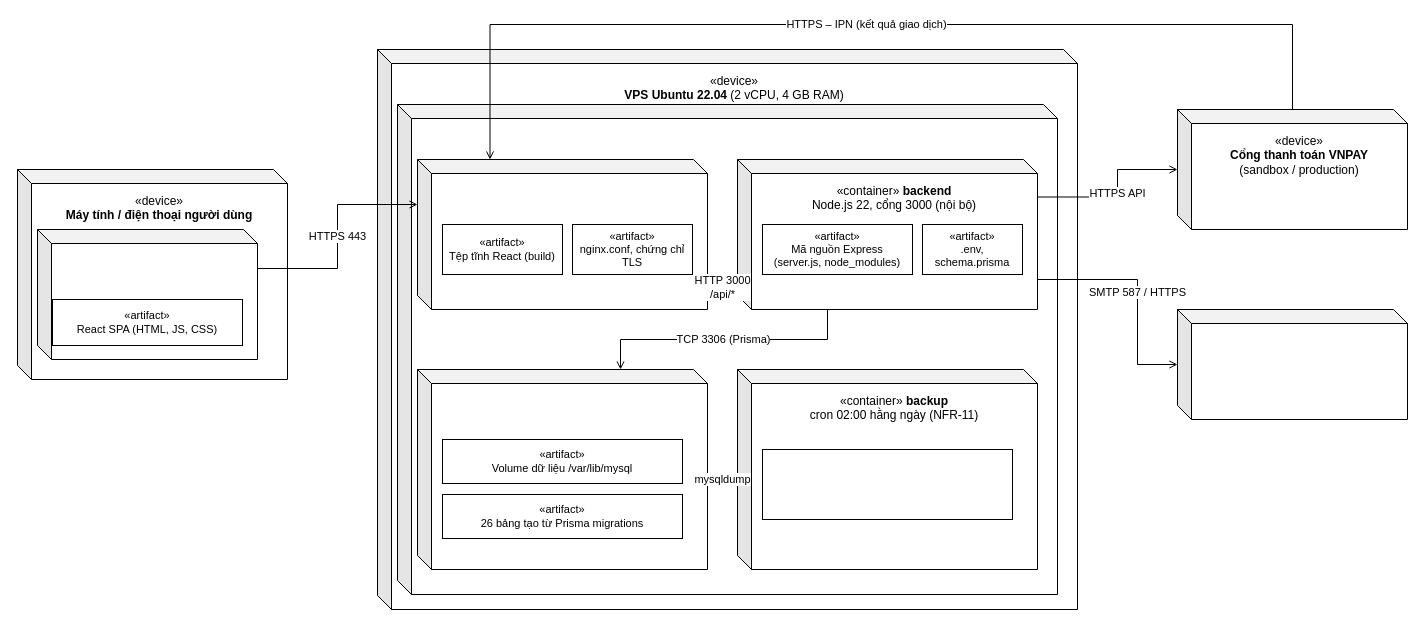
This 1425x627 diagram has some shape labels left out. The shapes that lost their labels are listed below. From the top down, each one's box as (x1, y1, x2, y2) in pixels, then its label:
(416, 158, 708, 310): «container» nginx cổng 443 (HTTPS), 80 → 443
(36, 228, 258, 360): «execution environment» Trình duyệt web (Chrome, Edge, Firefox, Safari)
(396, 104, 1058, 594): «execution environment» Docker Engine + Docker Compose
(1176, 308, 1408, 420): «device» Máy chủ SMTP (Gmail) / nhà cung cấp SMS
(416, 368, 708, 570): «container» mysql MySQL 8, cổng 3306 (nội bộ)
(762, 448, 1012, 520): «artifact» mysqldump → bản sao lưu nén, giữ 14 ngày, sao chép ra lưu trữ ngoài
